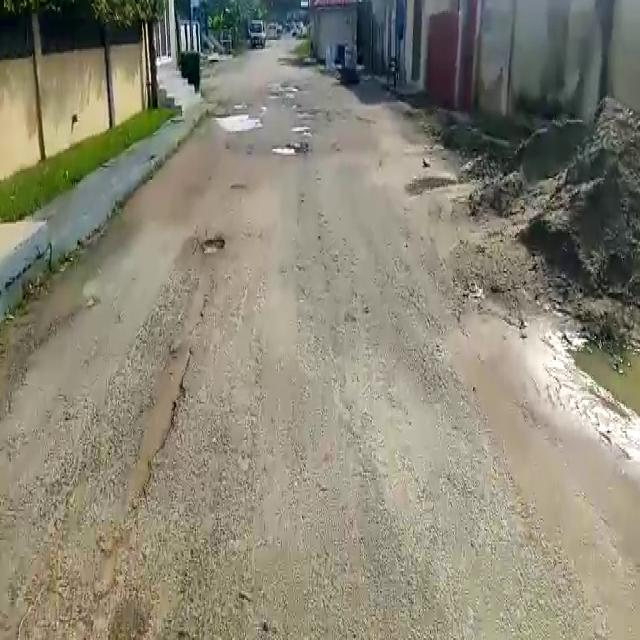Pothole: (211, 109, 263, 131), (272, 142, 308, 160), (200, 235, 227, 258)
